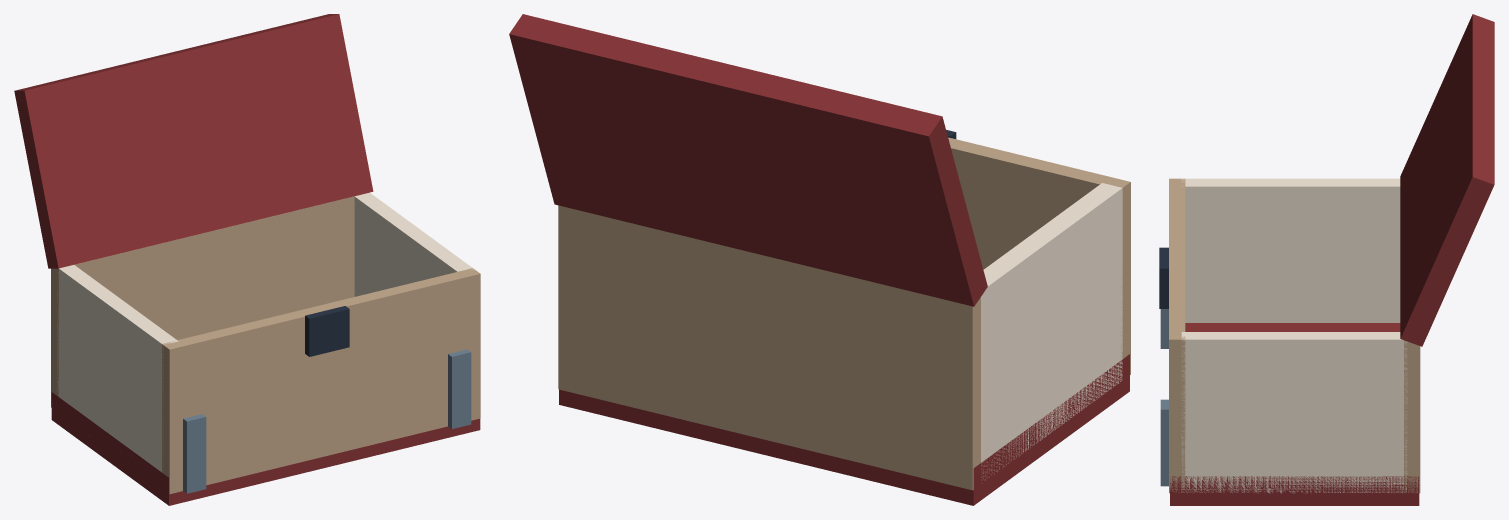
The picture shows the model from 3 angles, left to right: view 1: azimuth 30°, elevation 25°; view 2: azimuth 150°, elevation 25°; view 3: azimuth 270°, elevation 25°; orthographic projection. The views are drawn at different scales.
Visible parts, largest first — view 1: raised lid, panel 0.5, panel -0.5, end panel -0.77, floor, end panel 0.77, clasp, corner 0.69, corner -0.69; view 2: raised lid, panel -0.5, end panel -0.77, floor, panel 0.5; view 3: end panel 0.77, end panel -0.77, raised lid, floor, panel 0.5, panel -0.5, corner 0.69, clasp.
Part boxes in pixels (bbox=[...]): raised lid: bbox=[14, 14, 373, 268]; panel 0.5: bbox=[162, 268, 480, 494]; panel -0.5: bbox=[51, 195, 356, 407]; end panel -0.77: bbox=[57, 265, 178, 472]; floor: bbox=[51, 392, 480, 505]; end panel 0.77: bbox=[354, 192, 473, 296]; clasp: bbox=[305, 306, 349, 356]; corner 0.69: bbox=[448, 349, 471, 428]; corner -0.69: bbox=[183, 414, 206, 493]; raised lid: bbox=[509, 14, 987, 306]; panel -0.5: bbox=[558, 205, 980, 490]; end panel -0.77: bbox=[981, 183, 1122, 483]; floor: bbox=[559, 354, 1129, 505]; panel 0.5: bbox=[948, 137, 1130, 377]; end panel 0.77: bbox=[1181, 332, 1407, 493]; end panel -0.77: bbox=[1181, 178, 1400, 322]; raised lid: bbox=[1400, 14, 1494, 346]; floor: bbox=[1170, 323, 1419, 505]; panel 0.5: bbox=[1169, 178, 1185, 493]; panel -0.5: bbox=[1404, 340, 1420, 493]; corner 0.69: bbox=[1160, 399, 1168, 486]; clasp: bbox=[1159, 247, 1168, 308].
Bounding box in the file's own units: 1.64 × 1.55 × 1.42.
